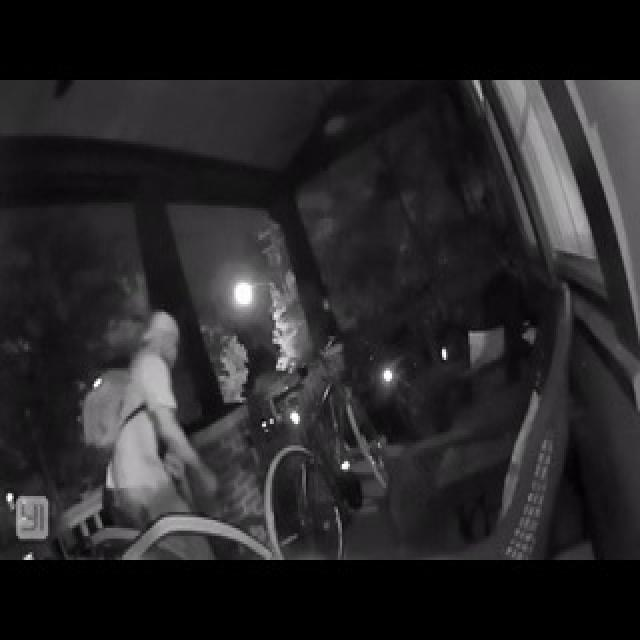thief: (81, 309, 213, 553)
